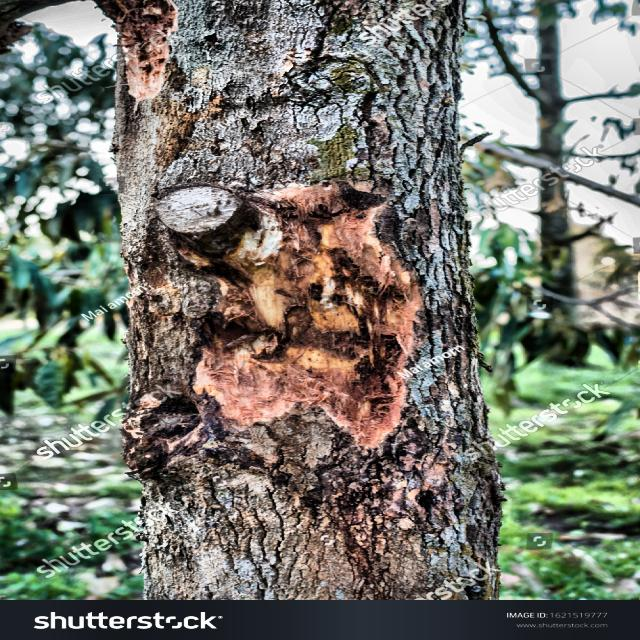arvore: (82, 0, 520, 594)
